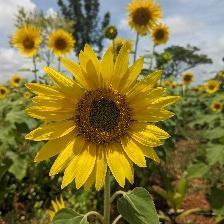sunflower: (23, 45, 183, 191)
